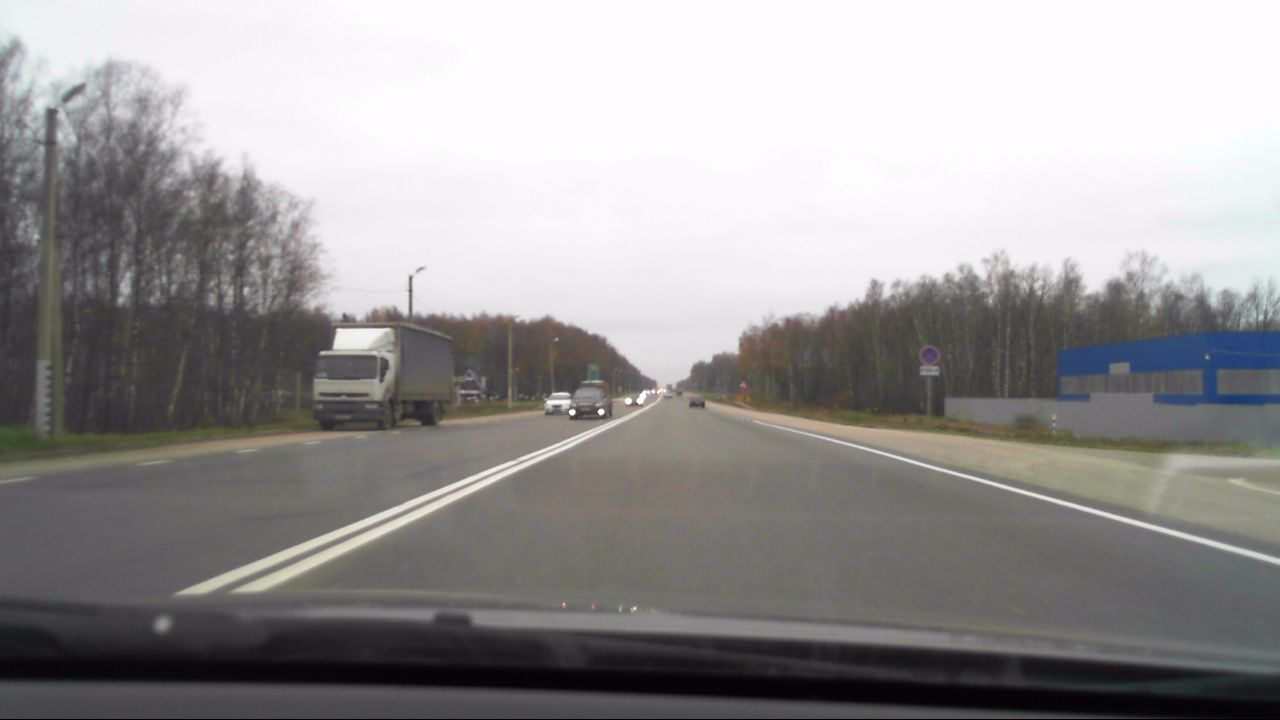No Parking: (916, 346, 940, 365)
